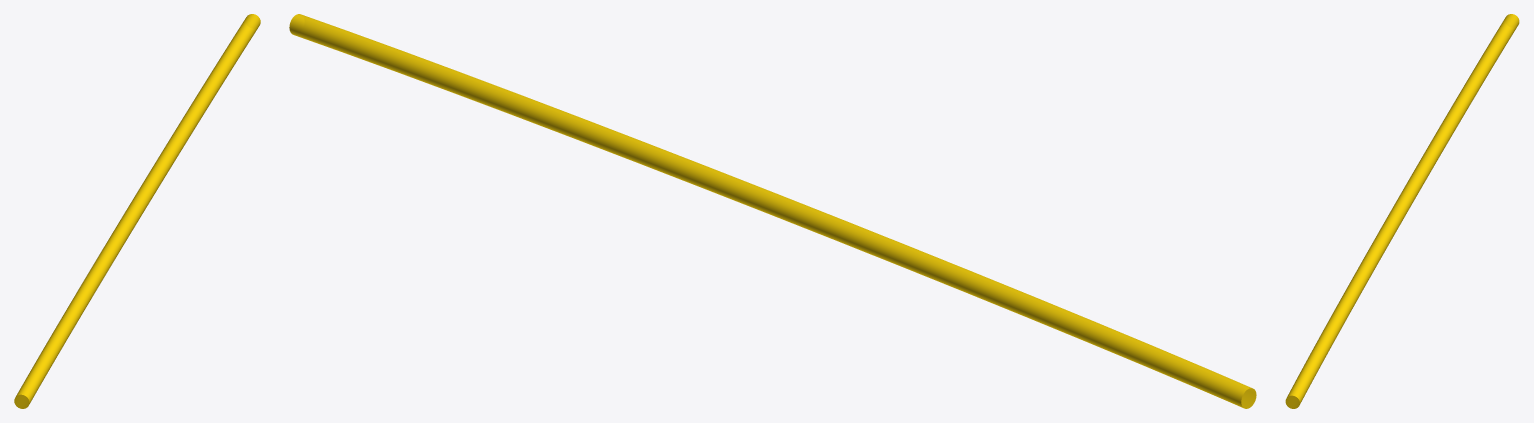
Rendered from Event_421115418_track_25.fbx.
3 views of the same model, side by side, from view 1: azimuth 90°, elevation 25°; view 2: azimuth 150°, elevation 25°; view 3: azimuth 270°, elevation 25° (orthographic). The views are drawn at different scales.
Visible parts, largest first — view 1: Model; view 2: Model; view 3: Model.
Part boxes in pixels (bbox=[...]): Model: bbox=[14, 14, 260, 408]; Model: bbox=[289, 14, 1256, 408]; Model: bbox=[1285, 14, 1519, 408].
Size of the model in its own units: 2.35 by 0.0739 by 0.624.
